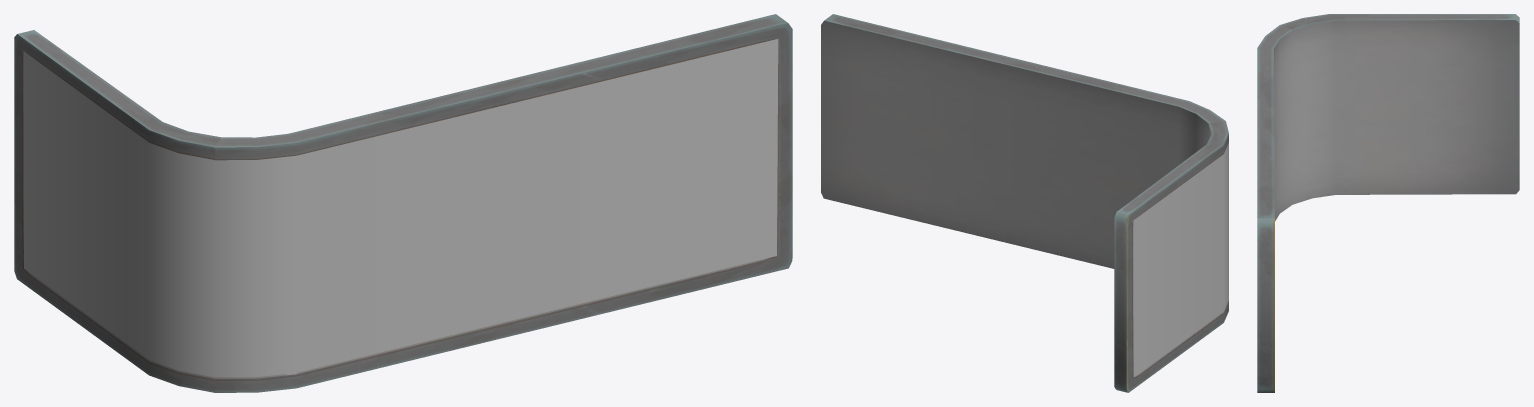
The model's file is pref_sm_city_bornbillboard01_snow_lv3.fbx.
3 views of the same model, side by side, from view 1: azimuth 30°, elevation 25°; view 2: azimuth 150°, elevation 25°; view 3: azimuth 270°, elevation 25° (orthographic). The views are drawn at different scales.
Parts seen in each view (by area): view 1: sm_city_bornbillboard01_snow_lv3, sm_city_bornbillboard01b_snow_lv3; view 2: sm_city_bornbillboard01b_snow_lv3, sm_city_bornbillboard01_snow_lv3; view 3: sm_city_bornbillboard01b_snow_lv3.
Boxes of the visible parts, <box> form: sm_city_bornbillboard01_snow_lv3: <box>23,39,778,377</box>; sm_city_bornbillboard01b_snow_lv3: <box>14,14,792,392</box>; sm_city_bornbillboard01b_snow_lv3: <box>821,14,1228,392</box>; sm_city_bornbillboard01_snow_lv3: <box>1133,143,1228,377</box>; sm_city_bornbillboard01b_snow_lv3: <box>1257,14,1519,392</box>.
Size of the model in its own units: 13.63 by 5.39 by 7.34.
